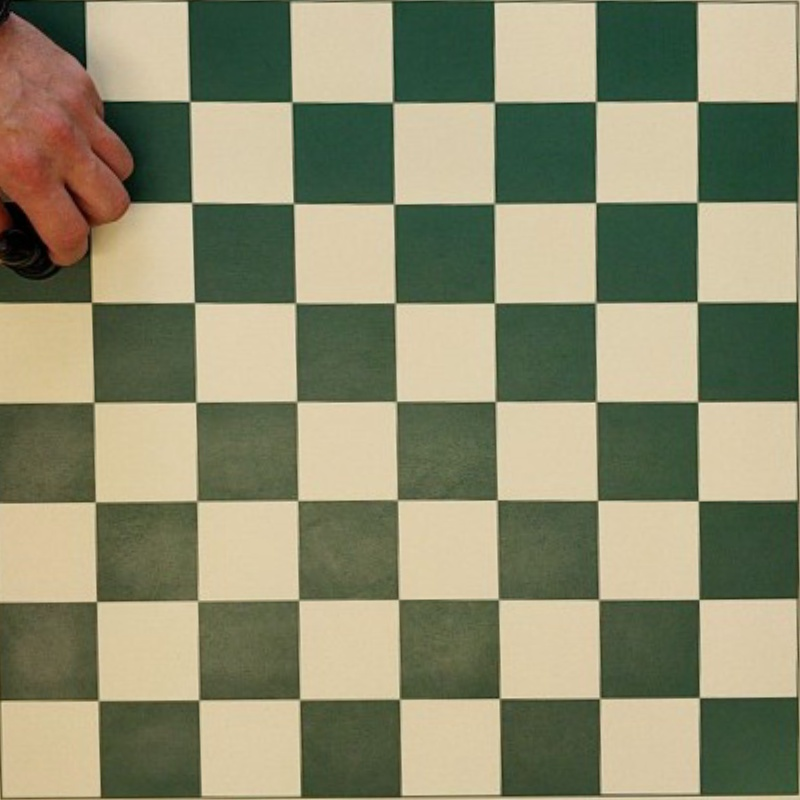black-bishop: (0, 189, 58, 280)
